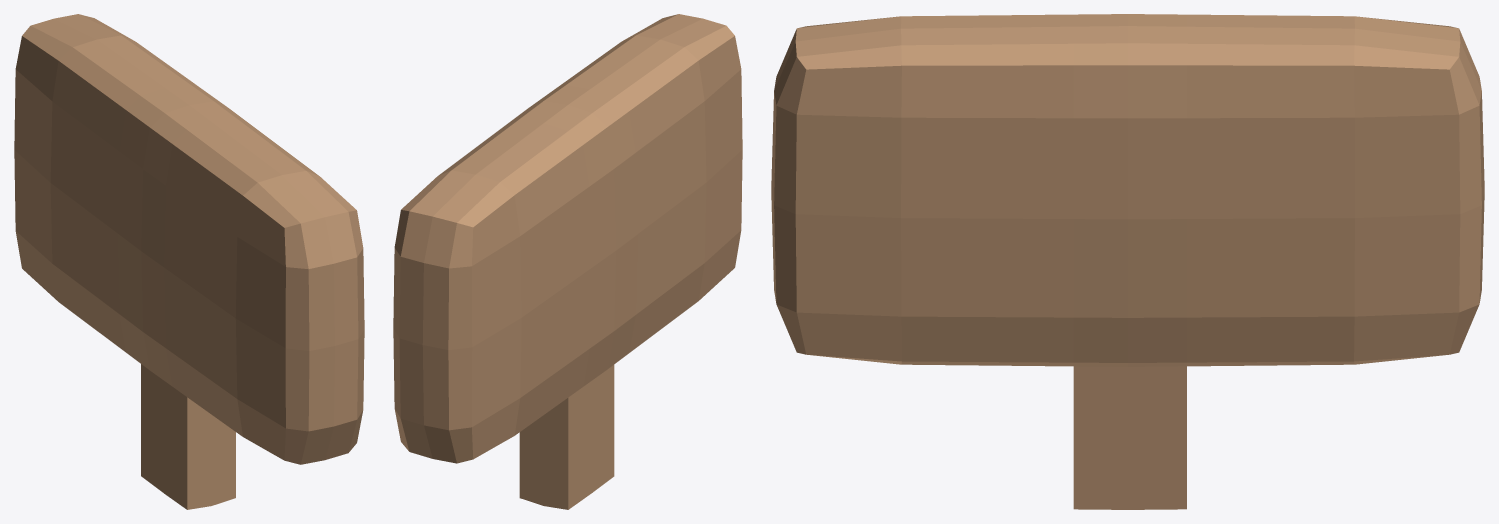
Rendered from small_sign.fbx.
3 renders of one model, left to right at view 1: azimuth 30°, elevation 25°; view 2: azimuth 150°, elevation 25°; view 3: azimuth 270°, elevation 25°, orthographic. The views are drawn at different scales.
Visible parts, largest first — view 1: Cube.001; view 2: Cube.001; view 3: Cube.001.
Boxes of the visible parts, bbox=[...] form: Cube.001: bbox=[14, 14, 364, 509]; Cube.001: bbox=[393, 14, 742, 509]; Cube.001: bbox=[771, 14, 1484, 509].
Size of the model in its own units: 56.49 by 215 by 295.
